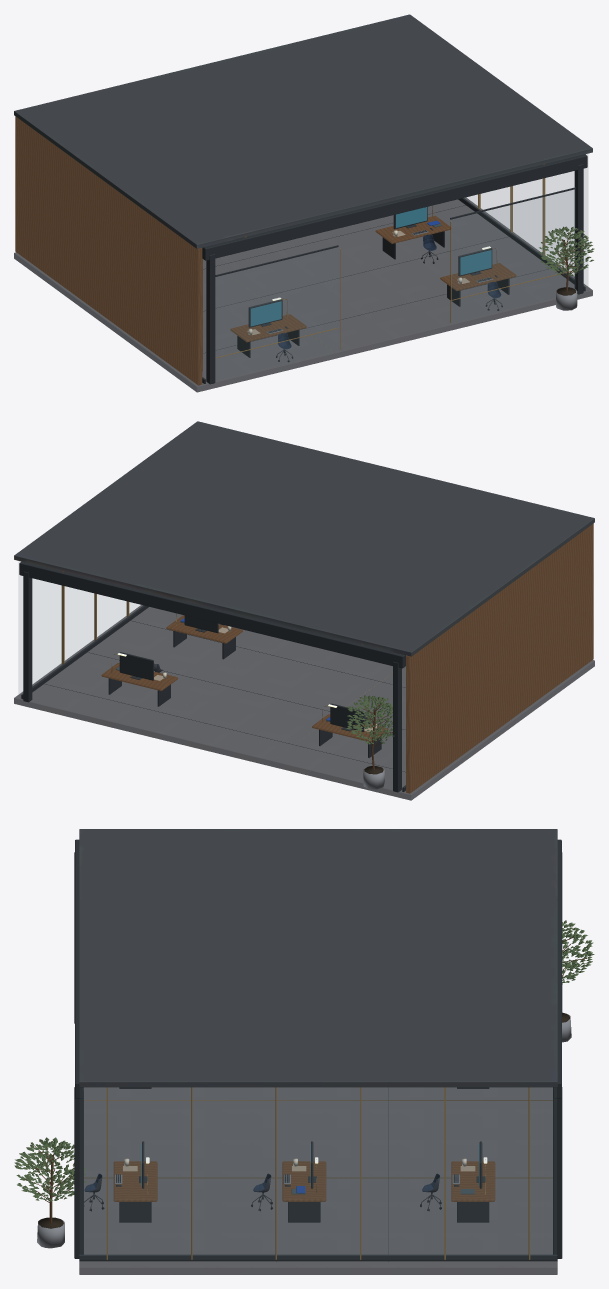
Rendered from environment-2.glb.
3 renders of one model, top to bottom at view 1: azimuth 30°, elevation 25°; view 2: azimuth 150°, elevation 25°; view 3: azimuth 270°, elevation 25°, orthographic. The views are drawn at different scales.
Visible parts, largest first — view 1: Group6#3 [3343285].001; view 2: Group6#3 [3343285].001; view 3: Group6#3 [3343285].001.
Part boxes in pixels (<box>): Group6#3 [3343285].001: <box>14,14,594,392</box>; Group6#3 [3343285].001: <box>14,421,594,800</box>; Group6#3 [3343285].001: <box>14,829,594,1274</box>.
Size of the model in its own units: 17 by 6.06 by 16.52.
22 materials, 6 textured.
